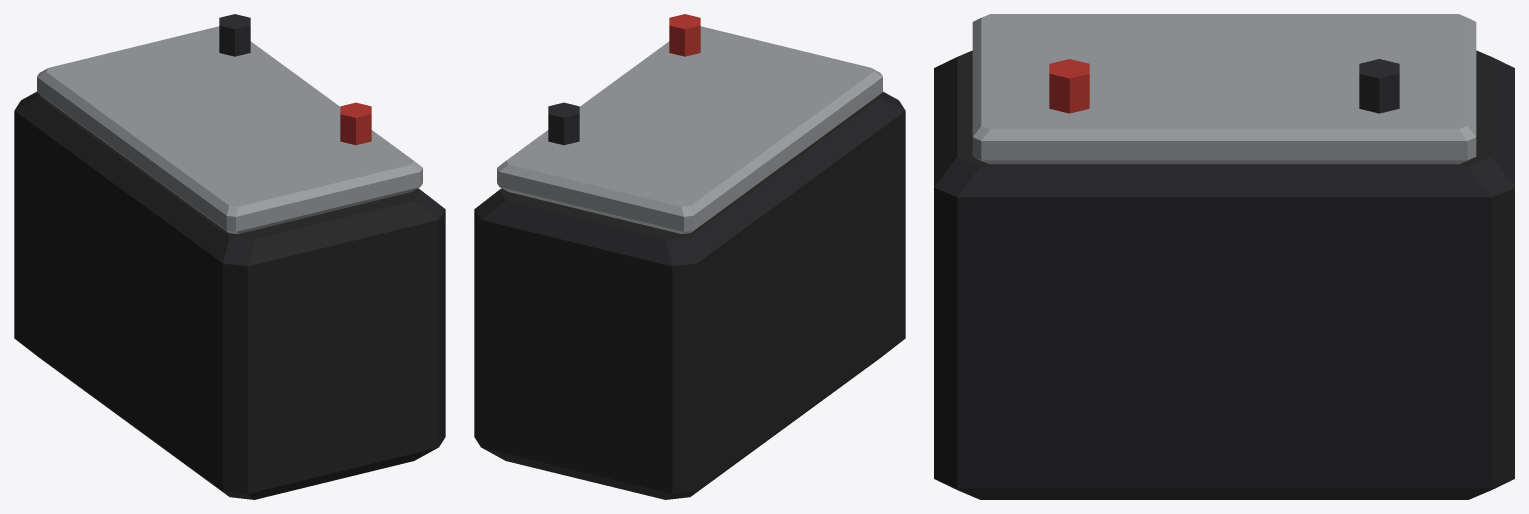
Rendered from SM_FP_Item_Batteria.glb.
3 views of the same model, side by side, from view 1: azimuth 30°, elevation 25°; view 2: azimuth 150°, elevation 25°; view 3: azimuth 270°, elevation 25° (orthographic). The views are drawn at different scales.
Parts seen in each view (by area): view 1: SM_FP_Item_Batteria; view 2: SM_FP_Item_Batteria; view 3: SM_FP_Item_Batteria.
Part boxes in pixels (left/top/right/bottom): SM_FP_Item_Batteria: left=14, top=14, right=445, bottom=499; SM_FP_Item_Batteria: left=474, top=14, right=905, bottom=499; SM_FP_Item_Batteria: left=934, top=14, right=1514, bottom=499.
Bounding box in the file's own units: 0.17 × 0.235 × 0.3.
1 material, 1 textured.
